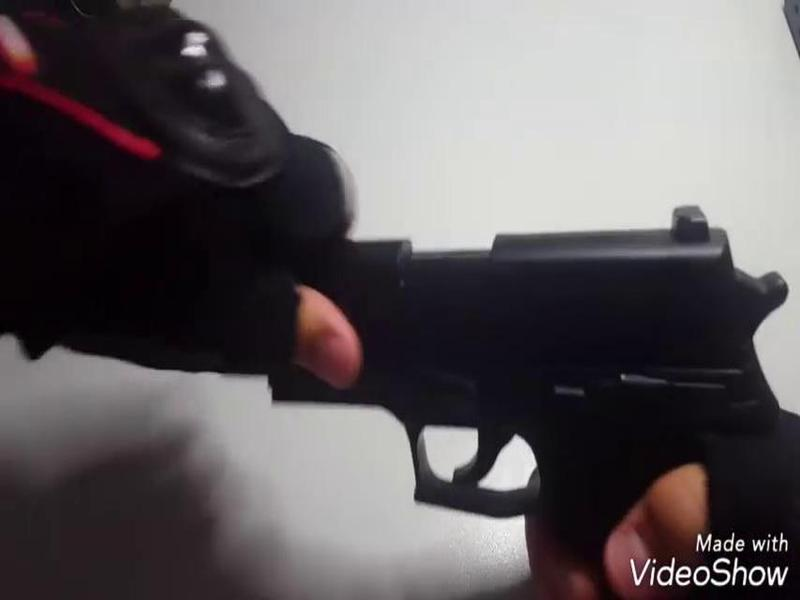Pistola: (264, 232, 777, 600)
